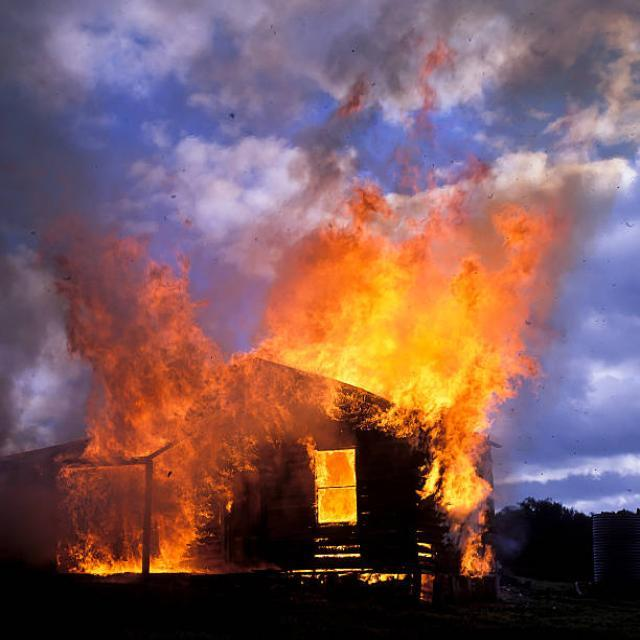Fire: (266, 205, 542, 543), (60, 272, 282, 550)
Smoke: (294, 0, 639, 268), (0, 18, 186, 374)
